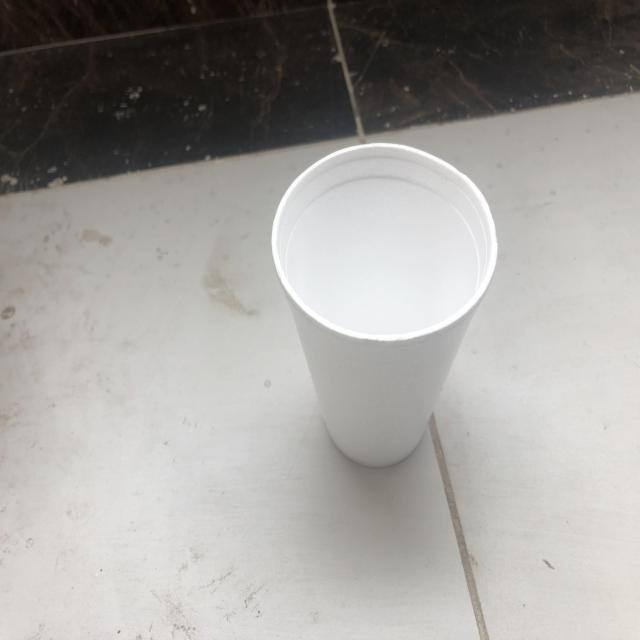cup-disposable: (270, 138, 500, 472)
